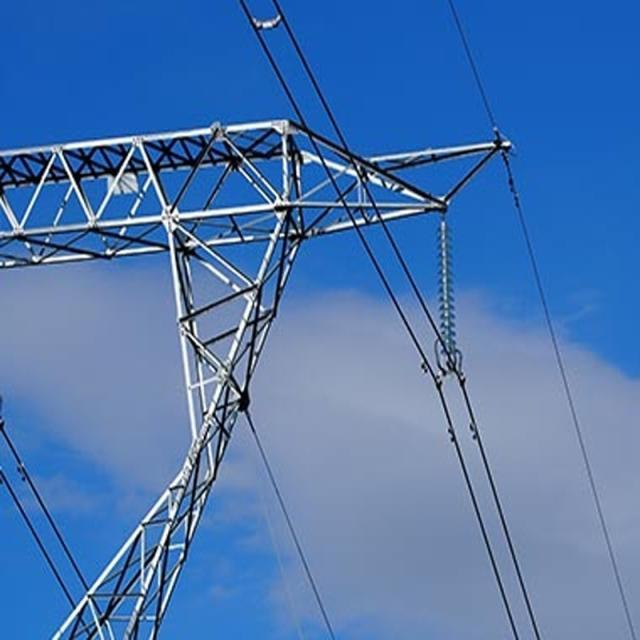non-critical vegetation: (3, 125, 518, 638)
